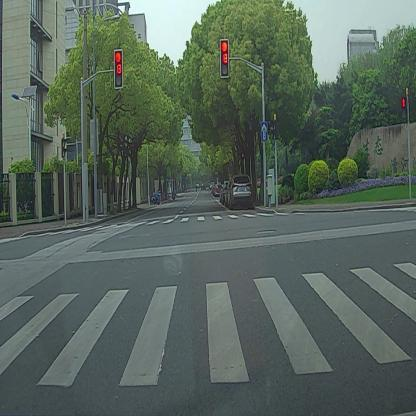Red Light: (219, 36, 230, 80), (113, 49, 124, 89)
